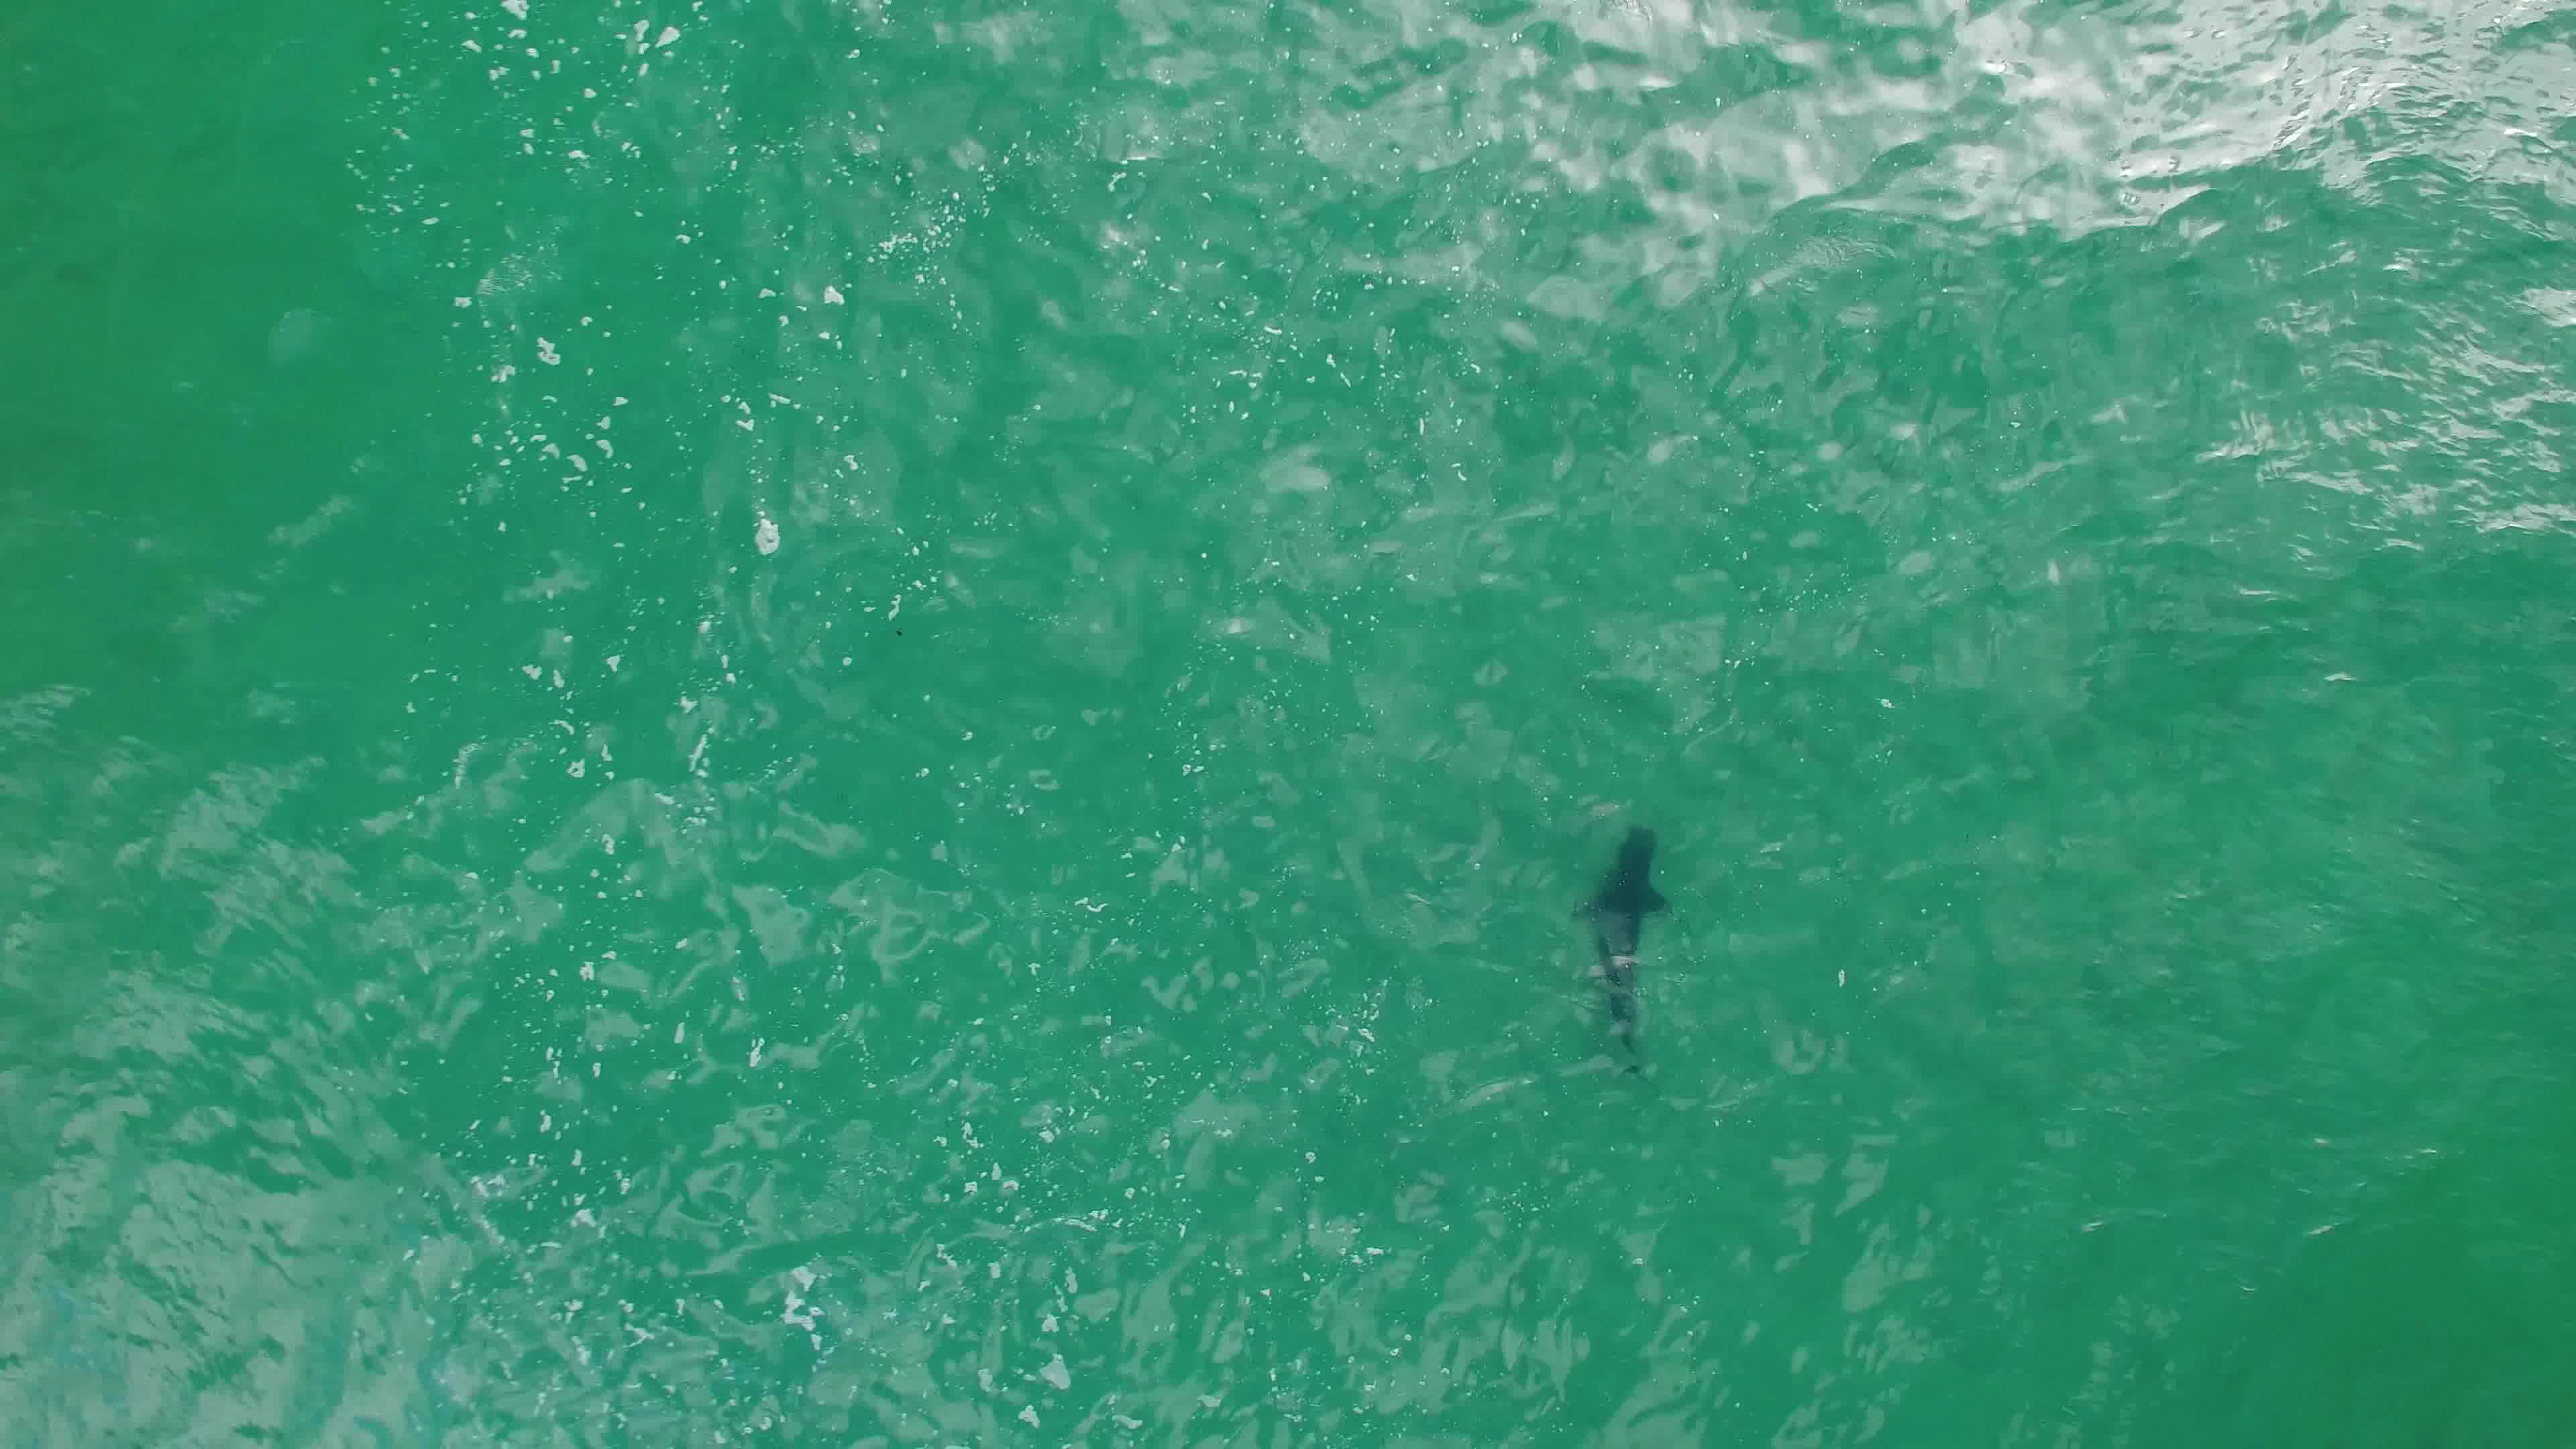shark: (1539, 810, 1683, 1076)
